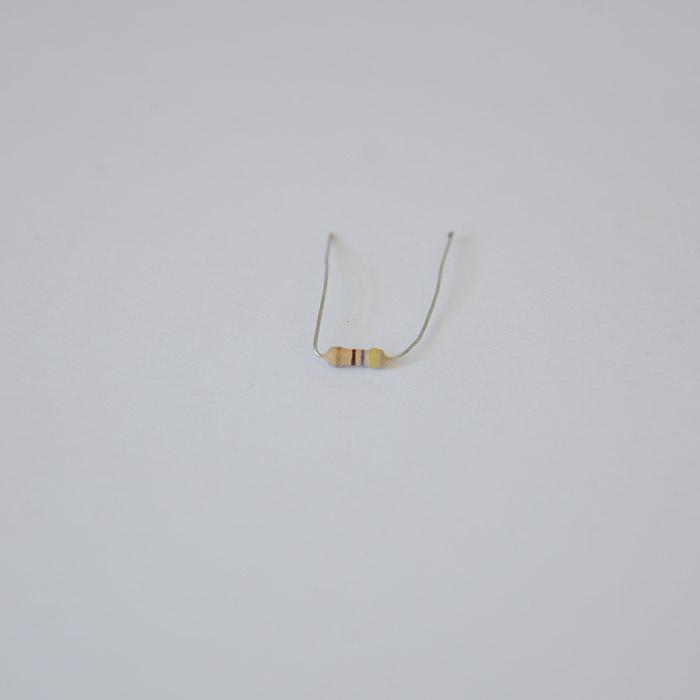resistor: (322, 346, 394, 374)
